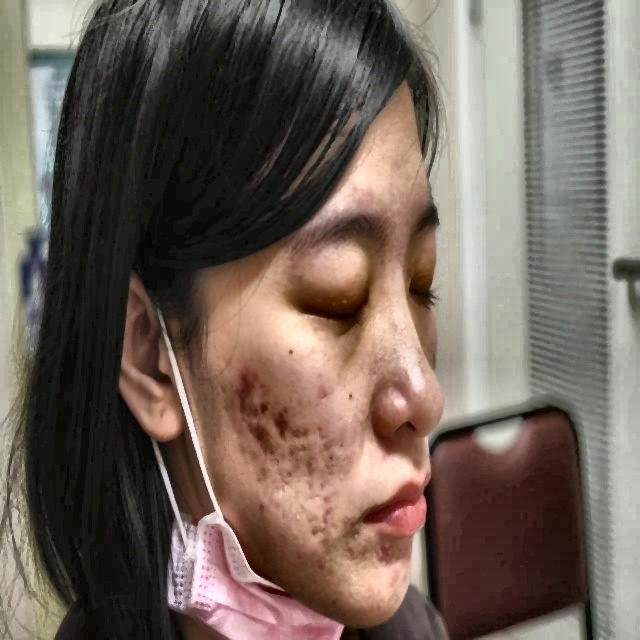papule: (229, 358, 253, 390), (230, 391, 258, 416), (309, 412, 331, 442), (246, 417, 270, 444), (380, 566, 400, 592), (294, 454, 315, 478), (374, 538, 395, 562), (248, 496, 267, 521), (259, 436, 280, 457), (274, 405, 288, 430), (254, 387, 266, 412), (256, 461, 270, 482), (319, 488, 333, 509), (291, 422, 305, 442)
